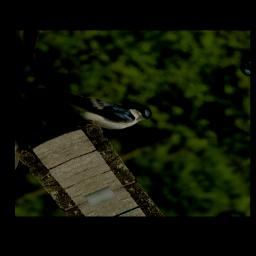Swallow: (35, 55, 157, 148)
